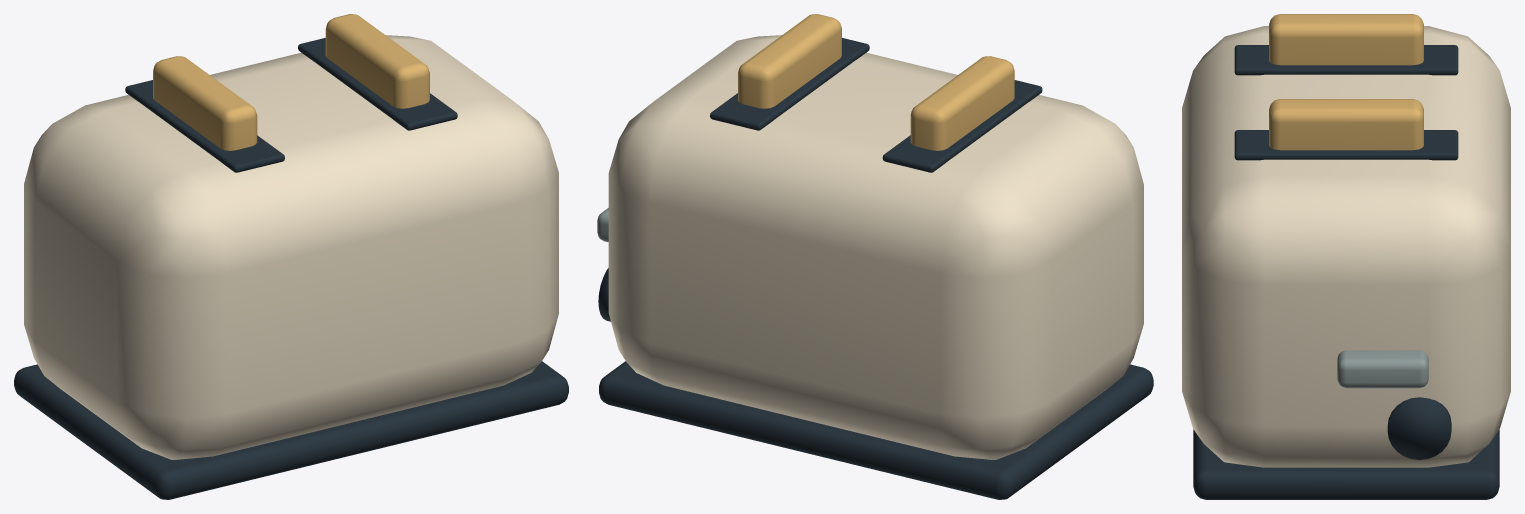
The model's file is Toaster.fbx.
3 views of the same model, side by side, from view 1: azimuth 30°, elevation 25°; view 2: azimuth 150°, elevation 25°; view 3: azimuth 270°, elevation 25° (orthographic).
Visible parts, largest first — view 1: Toaster; view 2: Toaster; view 3: Toaster.
Part boxes in pixels (left/top/right/bottom): Toaster: left=14, top=14, right=568, bottom=499; Toaster: left=597, top=14, right=1153, bottom=499; Toaster: left=1182, top=14, right=1510, bottom=499.
Size of the model in its own units: 1.16 by 0.825 by 0.72.
1 material, 1 textured.
